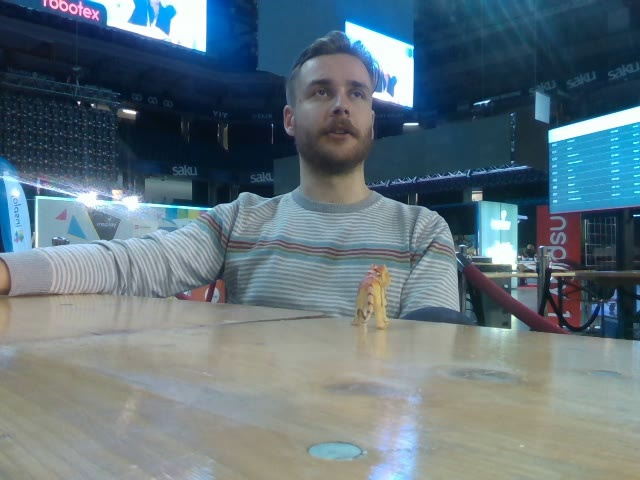toy: (352, 262, 391, 328)
